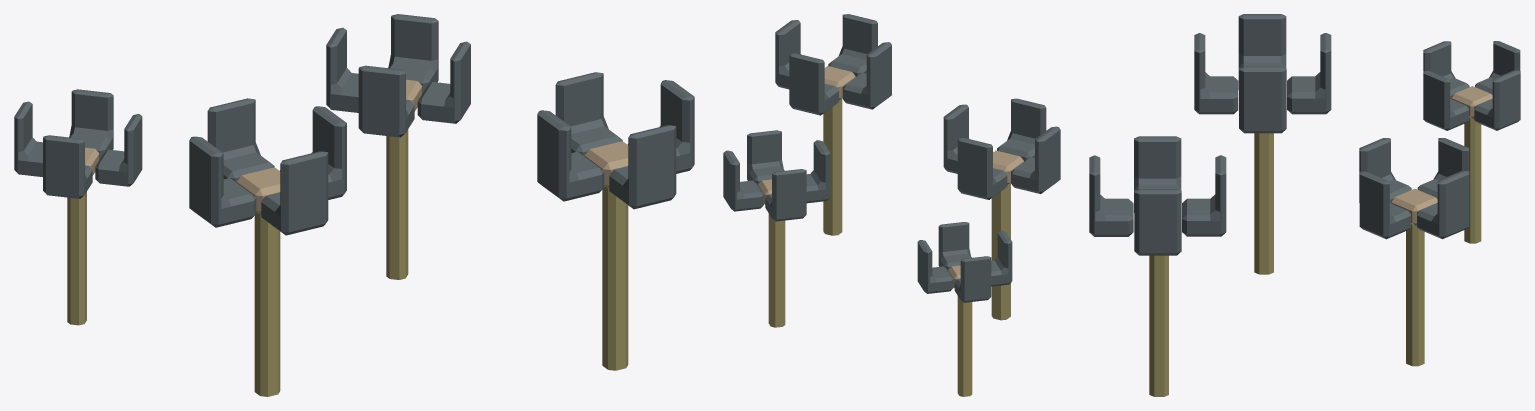
File: Flowers_2.glb
3 views of the same model, side by side, from view 1: azimuth 30°, elevation 25°; view 2: azimuth 150°, elevation 25°; view 3: azimuth 270°, elevation 25° (orthographic). The views are drawn at different scales.
Parts seen in each view (by area): view 1: Flowers_2; view 2: Flowers_2; view 3: Flowers_2.
Part boxes in pixels (x1=…): Flowers_2: x1=14, y1=14, x2=694, y2=396; Flowers_2: x1=723, y1=14, x2=1060, y2=396; Flowers_2: x1=1089, y1=14, x2=1520, y2=396.
Bounding box in the file's own units: 1.83 × 0.9679 × 1.65.
1 material, 1 textured.
